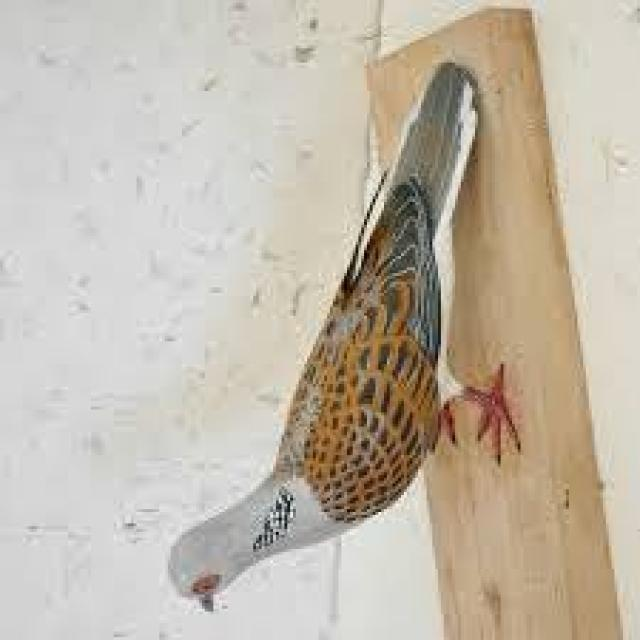pigeon: (162, 59, 534, 633)
